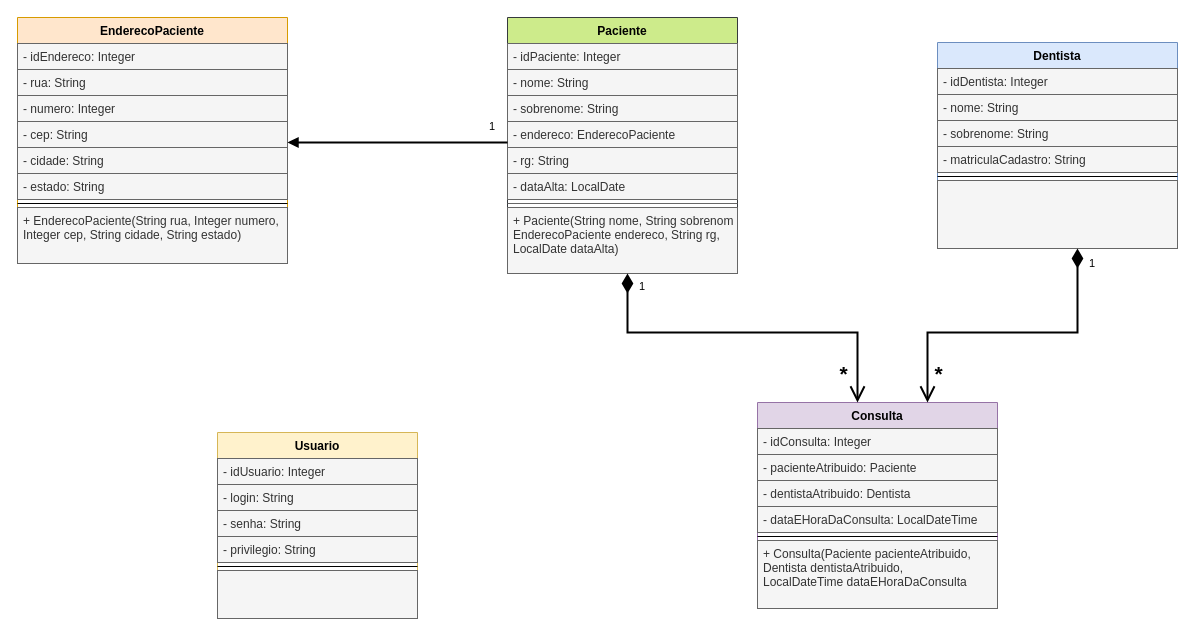
This 1195x639 diagram has some shape labels left out. Each missing label, with the centre of its shape:
+ Dentista(String nome, String sobrenome, Integer matriculaCadastro): the point at 1057,214
+ Usuario(String login, String senha, String privilegio): the point at 317,594
